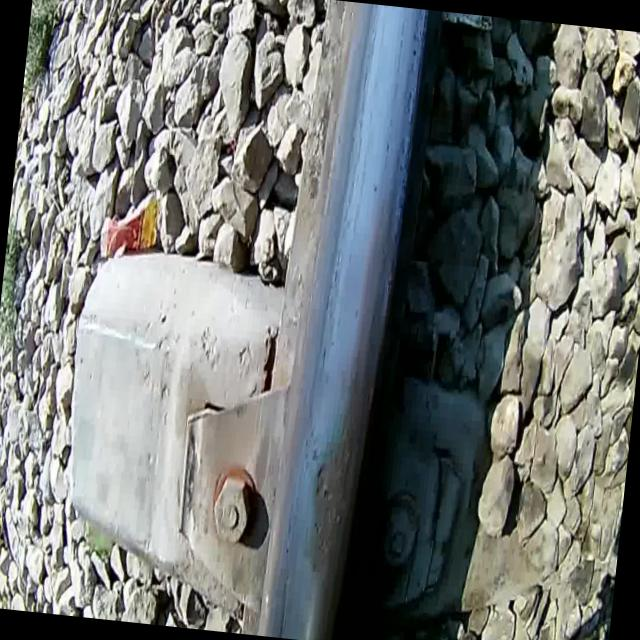Squats: (300, 433, 358, 582)
